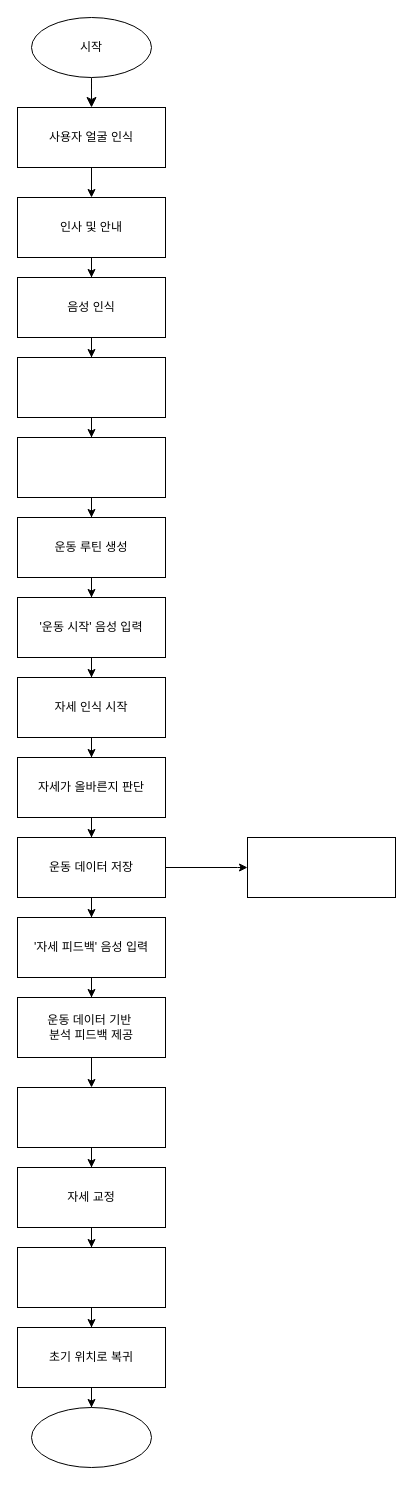
This 413x1485 diagram has some shape labels left out. Here are the shapes that lost their labels. From the top down, the centre of each, then its label:
point 91,387: '운동 루틴 추천' 음성 입력
point 91,467: 사용자의 과거 데이터 분석
point 321,867: 운동 데이터 DB 저장
point 91,1117: '자세 교정' 음성 입력
point 91,1277: '운동 종료' 음성 입력
point 91,1437: 종료
